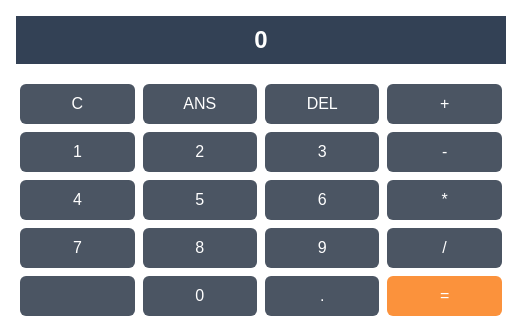
Test: Calculator › Calculator displays 3 after clicking "5", "-", and "2"
This screenshot has width=523, height=333.
Click the button with test id "calculator-button-5": point(200, 200) 143,180 -> 257,220
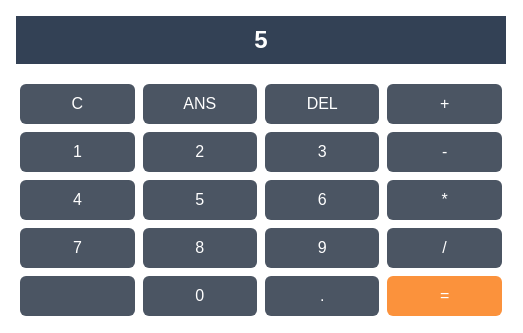
Click the button with test id "calculator-button--": point(445, 152) 387,132 -> 502,172
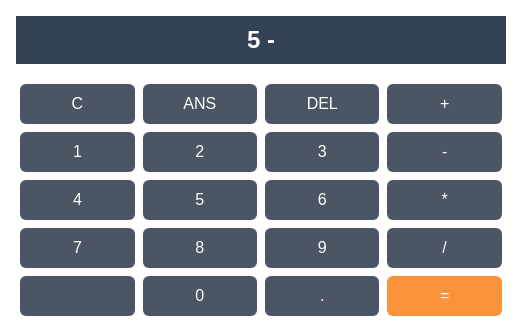
Click the button with test id "calculator-button-2": point(200, 152) 143,132 -> 257,172
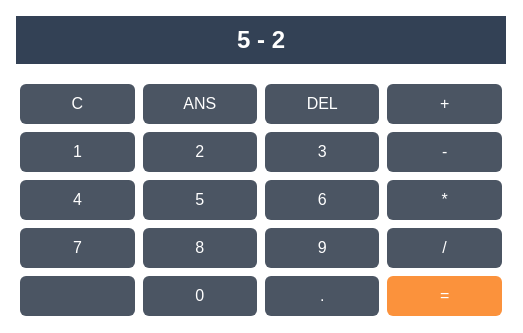
Click the button with test id "calculator-button-=": point(445, 296) 387,276 -> 502,316
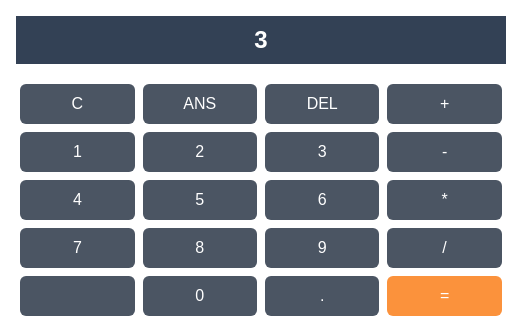
Expected: the text with test id "calculator-display" reads "3", 254,26 -> 268,53
